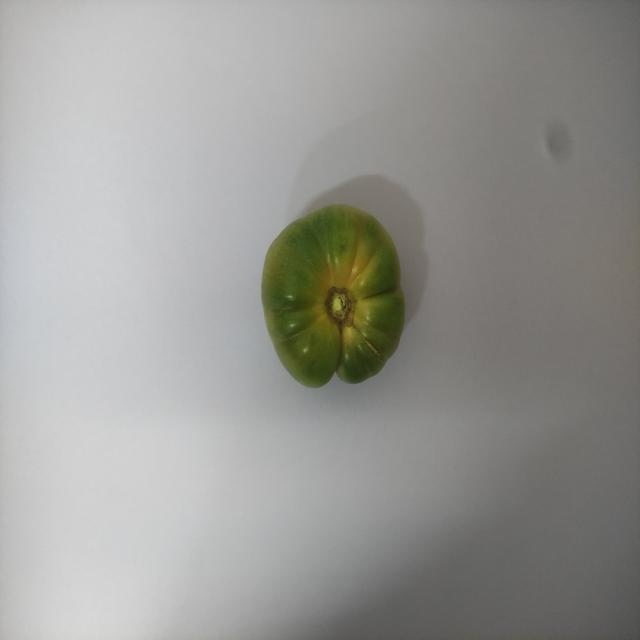yesil: (253, 192, 411, 398)
